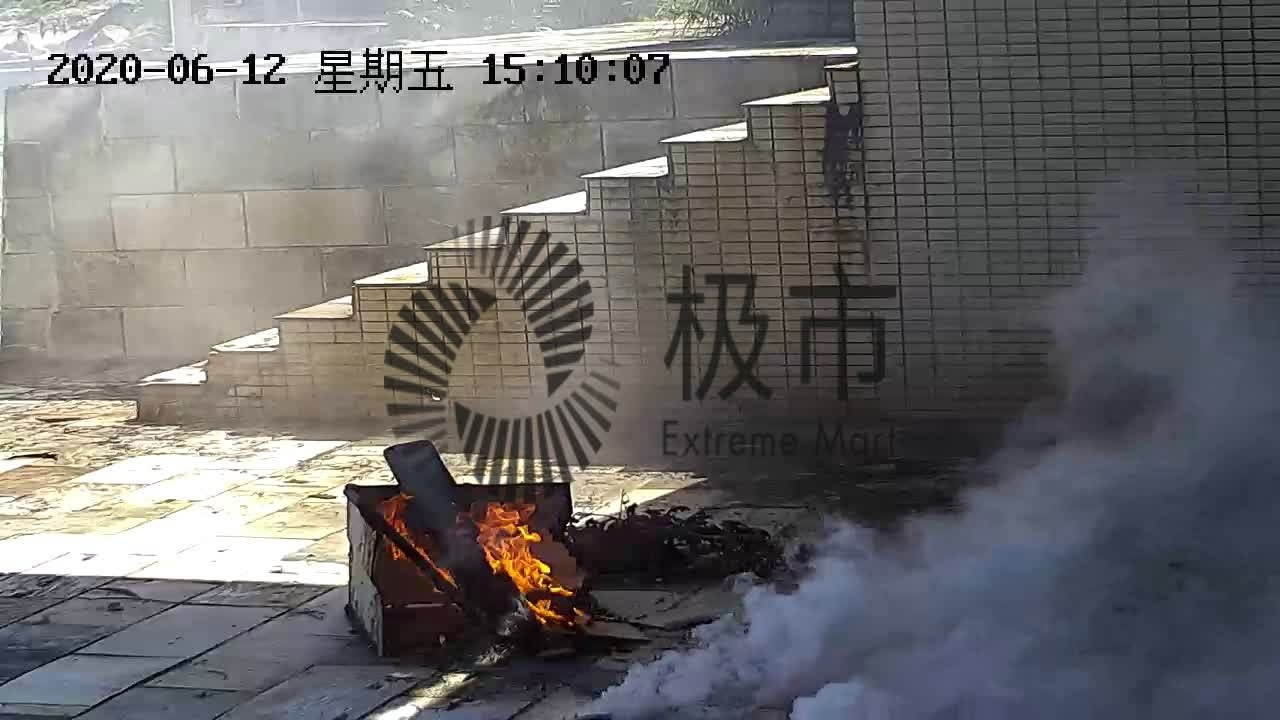fire: (374, 480, 586, 632)
